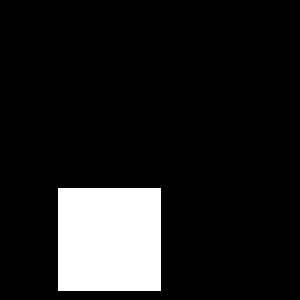circle: (58, 188, 161, 291)
